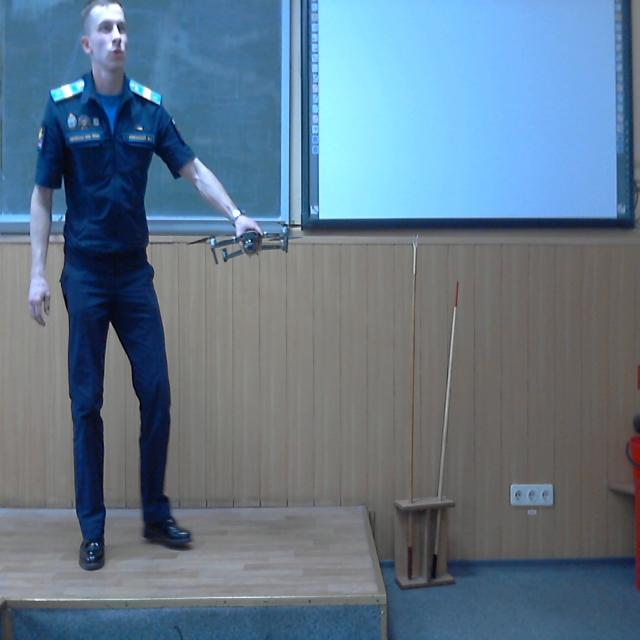drone: (187, 206, 302, 268)
